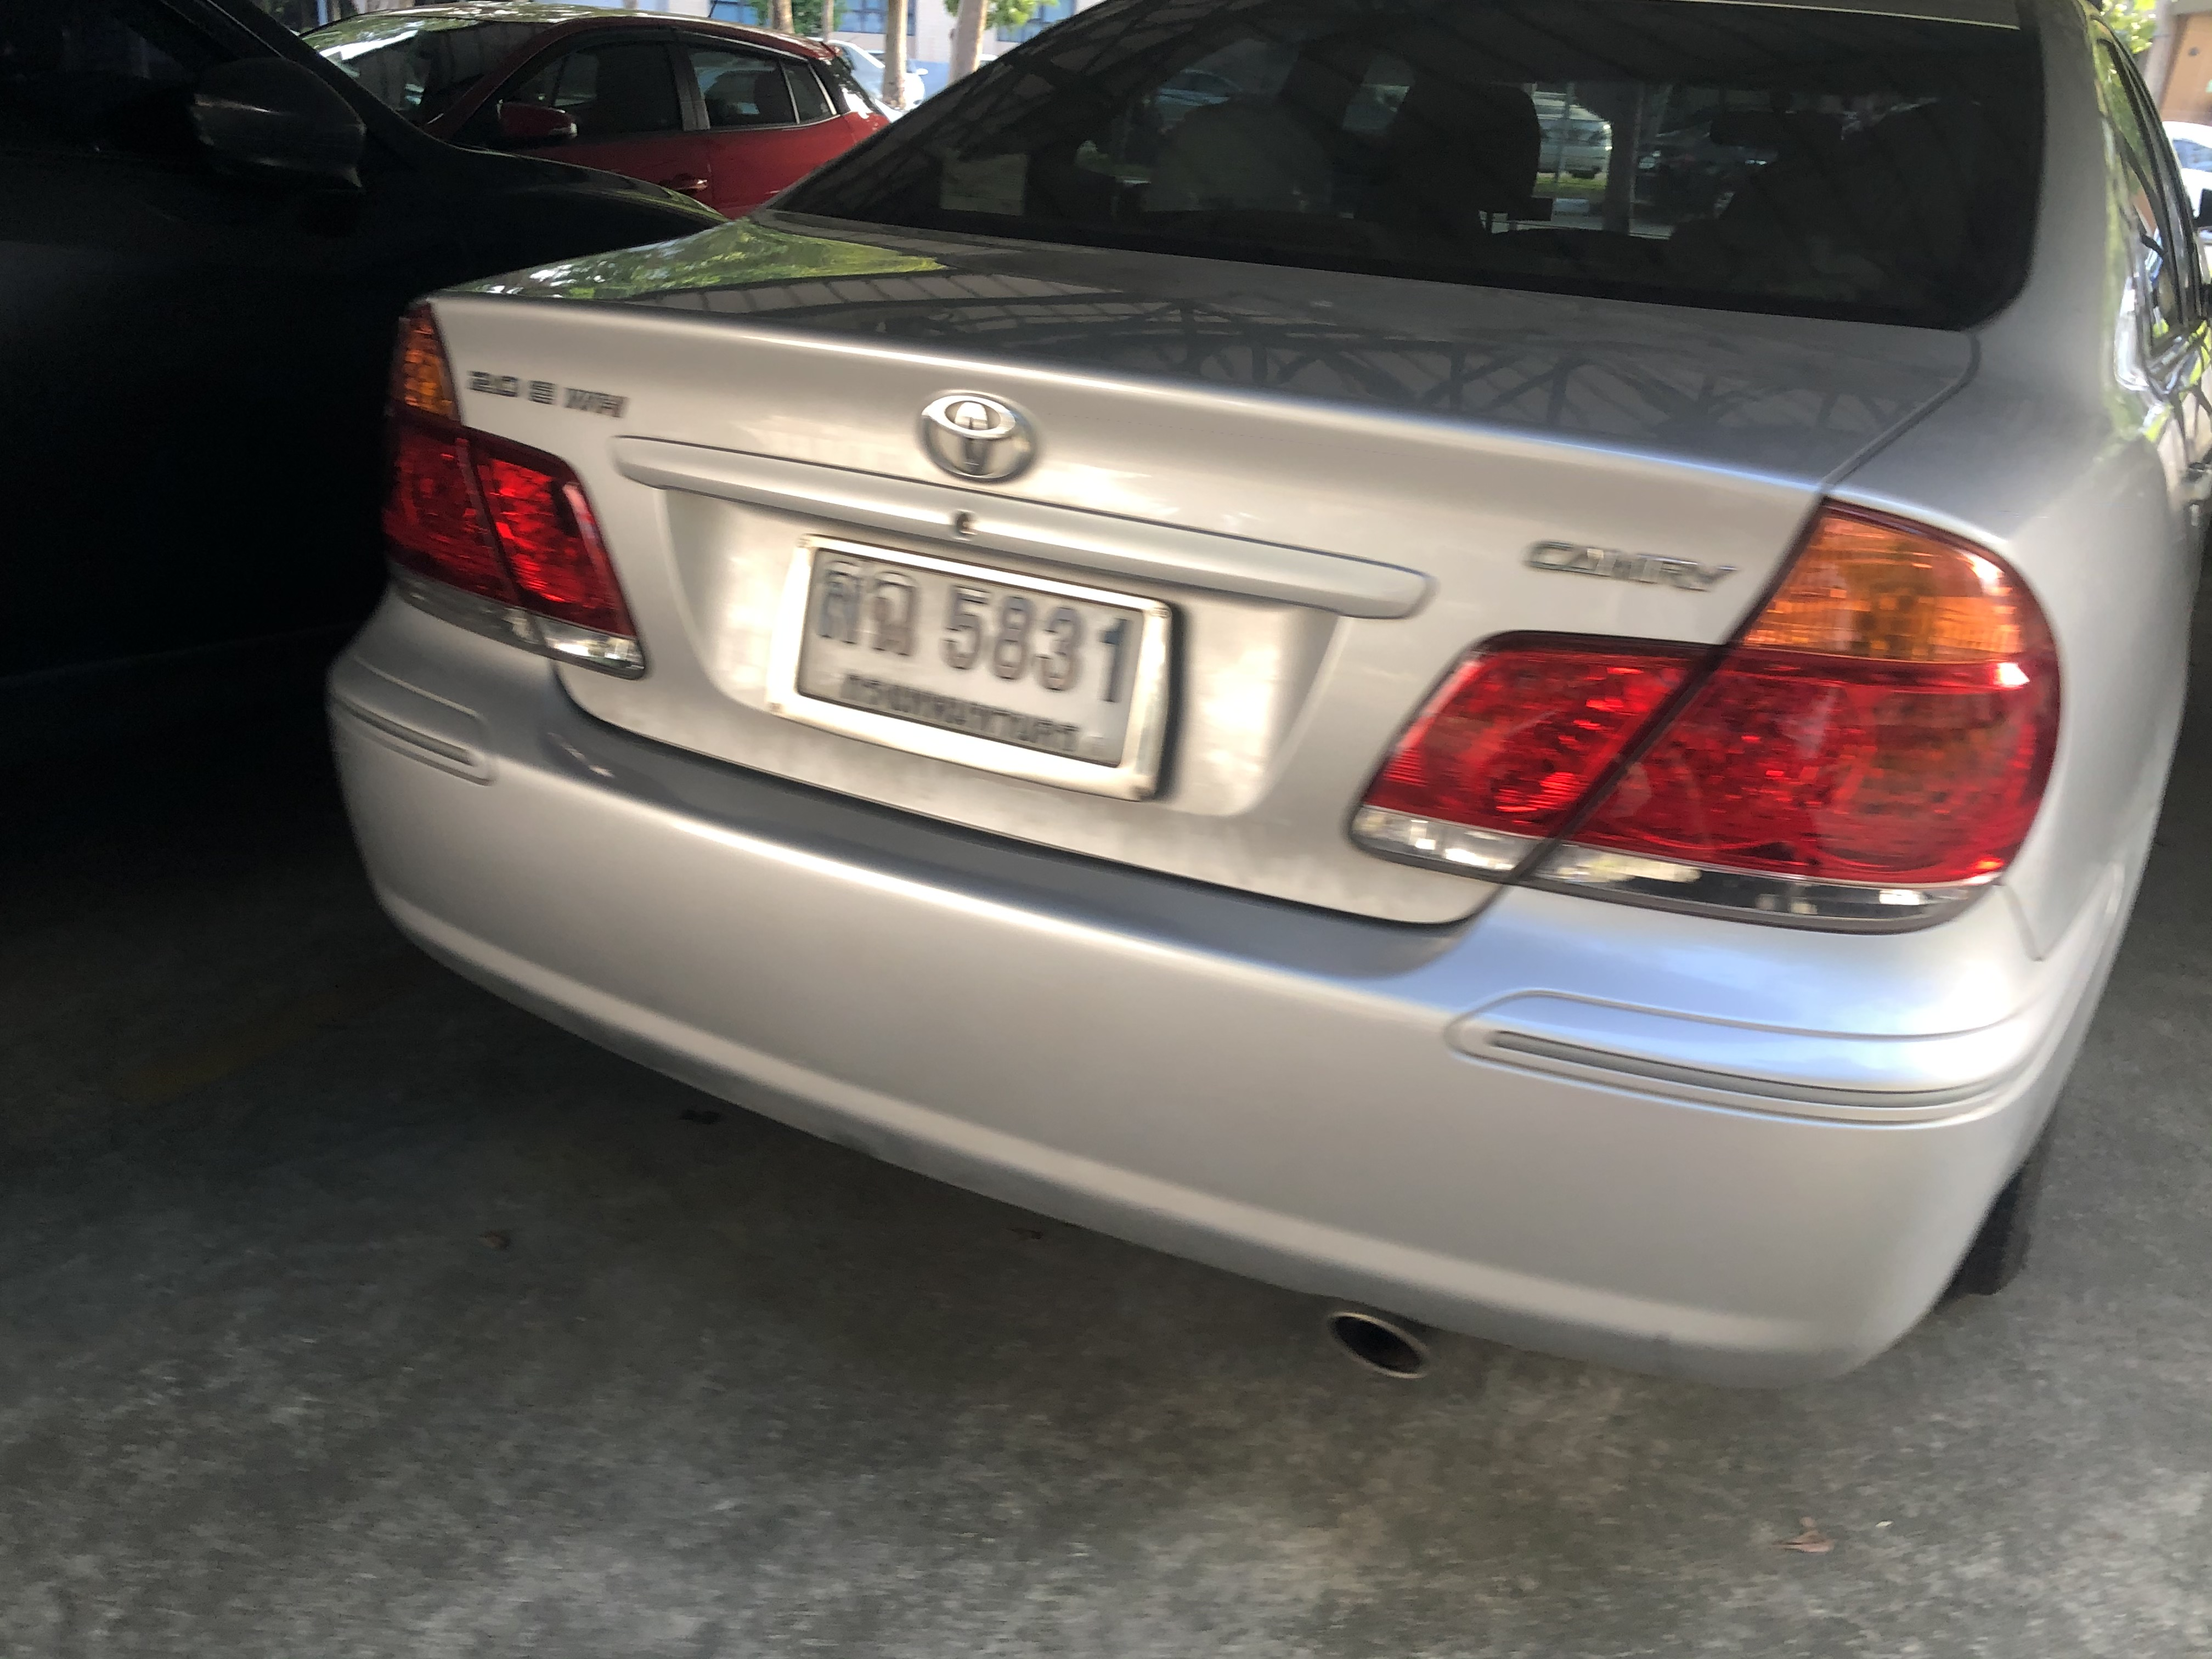in: (794, 547, 1144, 772)
out: (768, 530, 1172, 805)
